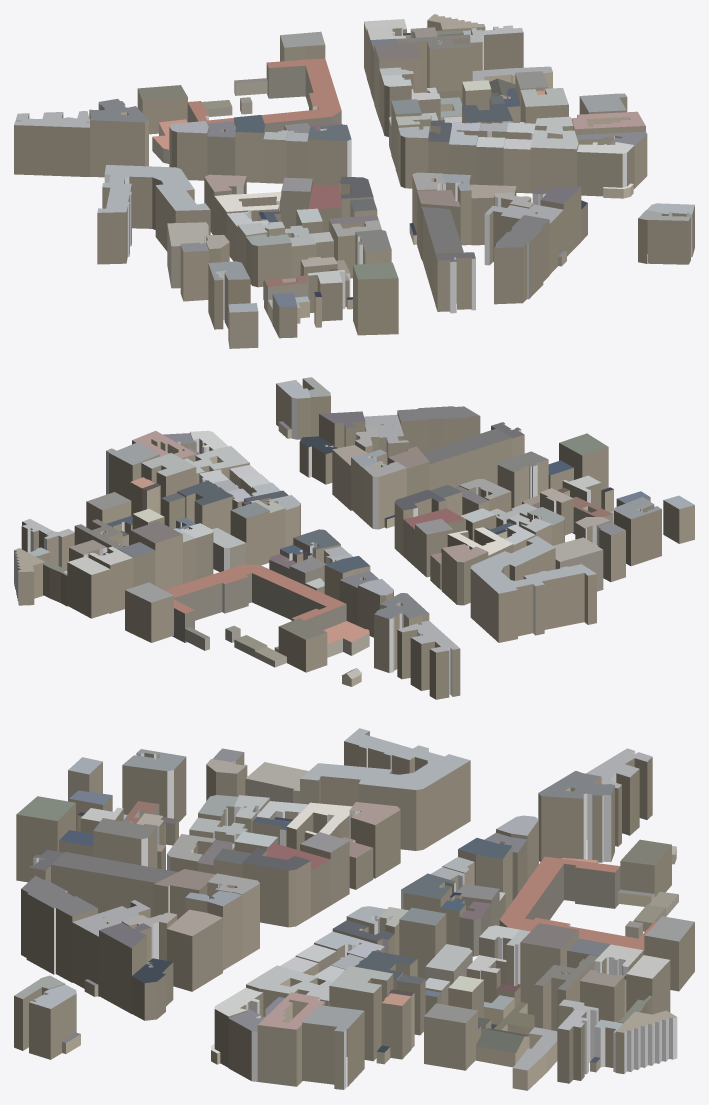
3 renders of one model, top to bottom at view 1: azimuth 30°, elevation 25°; view 2: azimuth 150°, elevation 25°; view 3: azimuth 270°, elevation 25°, orthographic. The views are drawn at different scales.
Visible parts, largest first — view 1: tuile; view 2: tuile; view 3: tuile.
Boxes of the visible parts, left/top/right/bottom form: tuile: left=14, top=14, right=694, bottom=348; tuile: left=14, top=377, right=694, bottom=699; tuile: left=14, top=728, right=694, bottom=1090.
Size of the model in its own units: 280 by 32.9 by 266.
